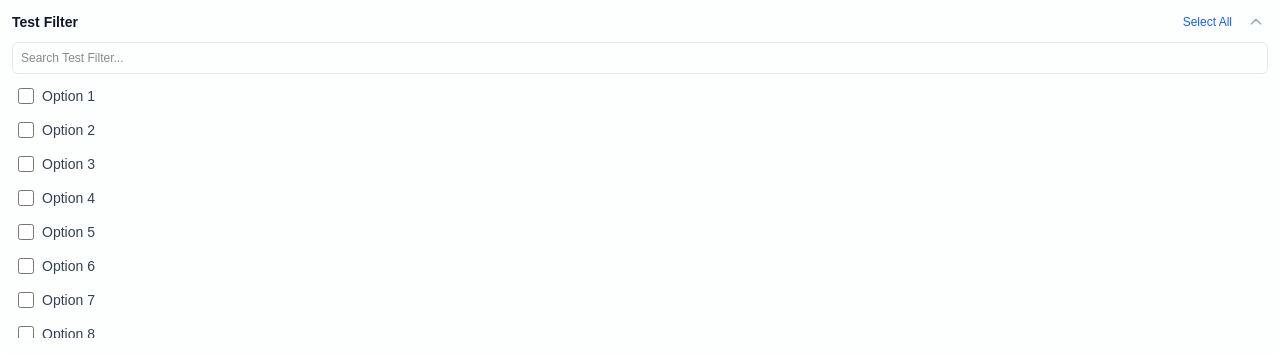
Scenario: FilterGroup › shows empty search message when search yields no results
Type "NonExistent" into the field with placeholder "Search Test Filter..." at (640, 58), box top-left (12, 42), bottom-right (1268, 74)
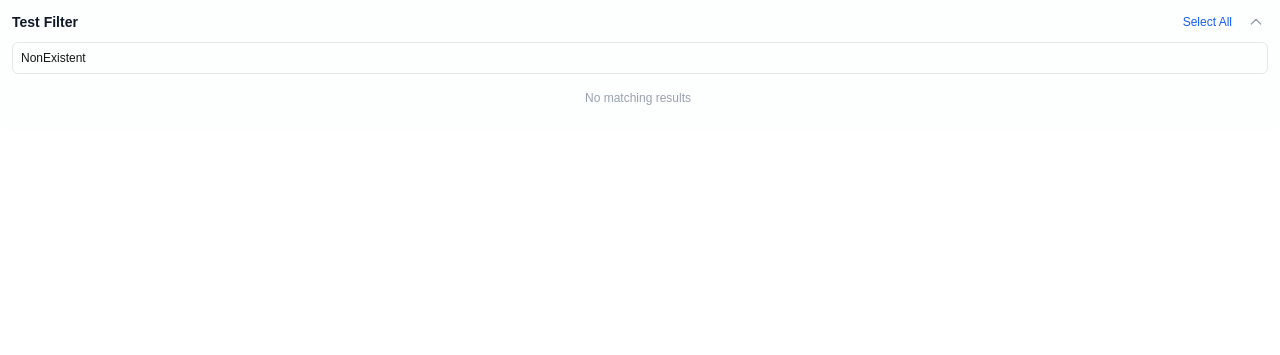
Check: the text "No matching results" is shown, box top-left (585, 91), bottom-right (691, 105)
